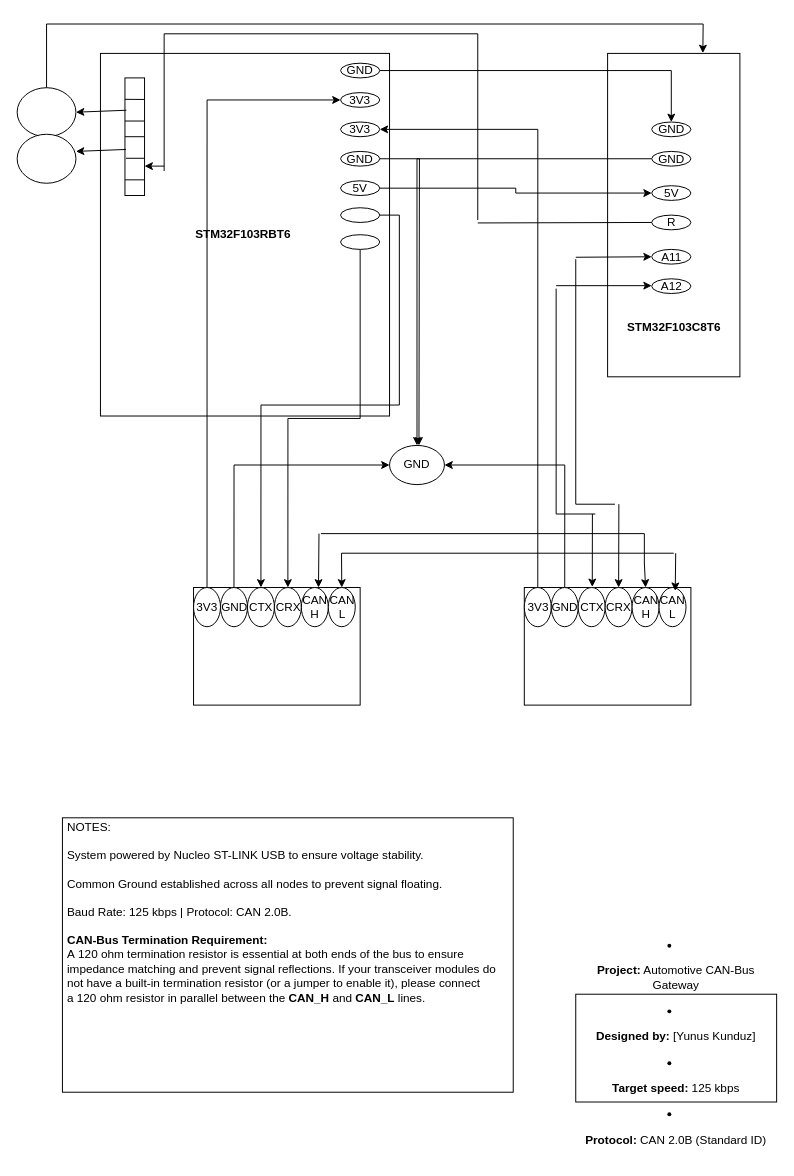
Some shapes in this 794 by 1176 pixel diagram are drawn without their labels. Here are the shapes that lost their labels. From the top down, the centre of each, then its label:
the point at 46,112: SWCLK
the point at 46,158: SWO
the point at 360,214: PA12
the point at 360,241: PA11
